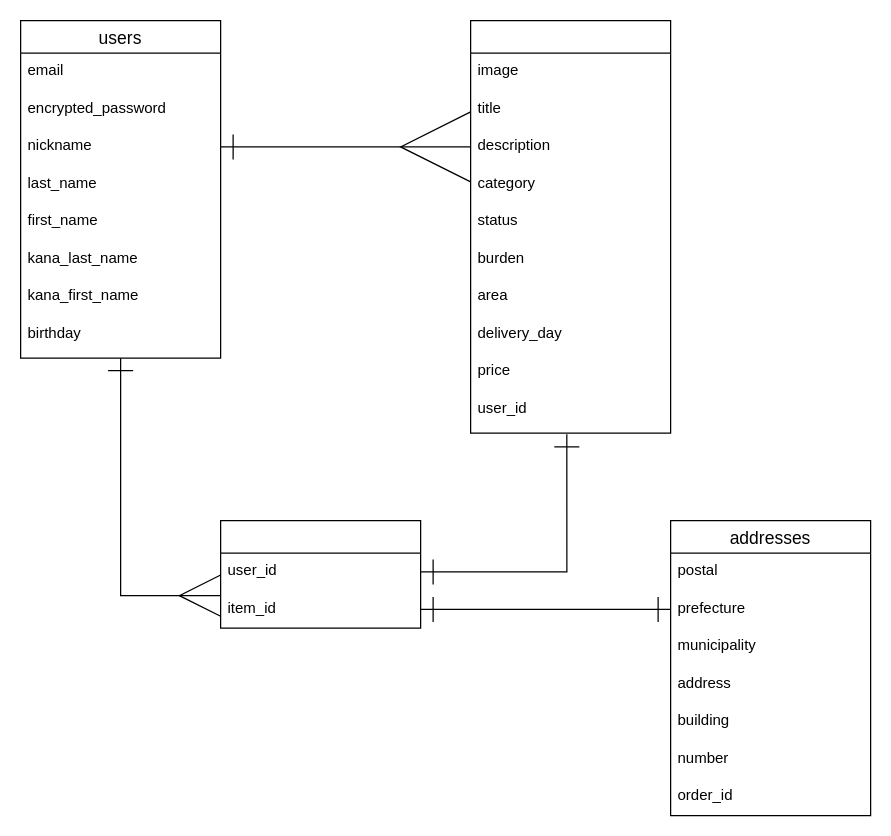
The diagram is 891 pixels wide and 836 high, and some of its shapes have lost their labels. Here are the shapes that lost their labels. From the top down, the box of each, then its label:
(469, 19, 671, 433): items
(219, 519, 421, 628): orders
